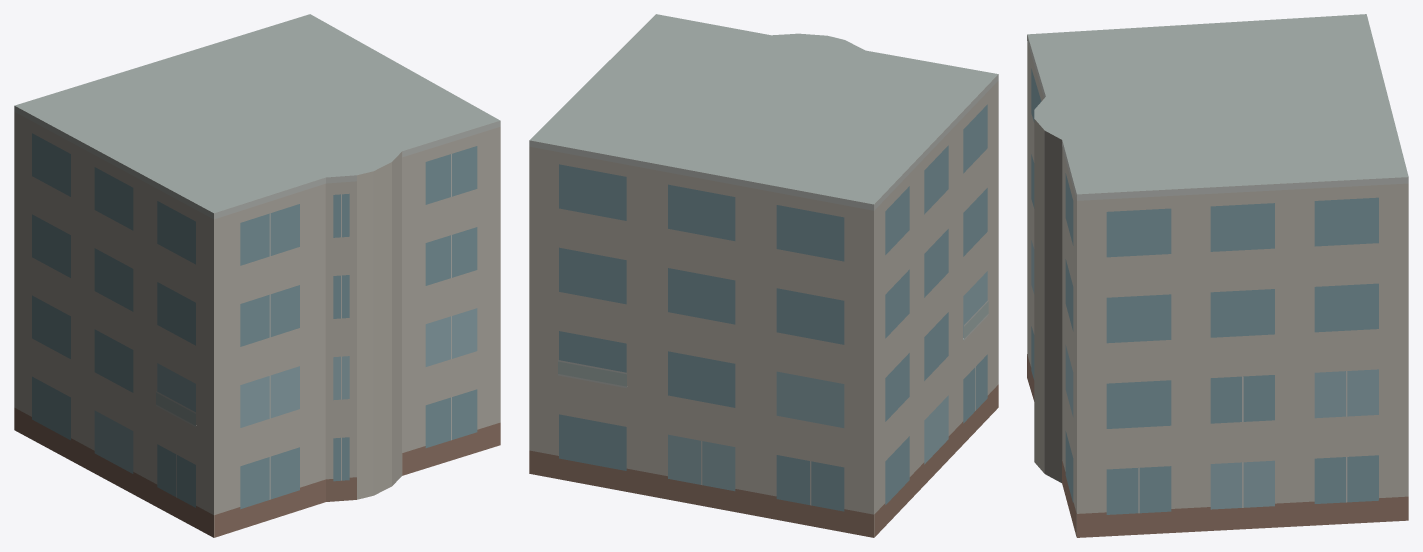
Rendered from survey-upis-32628638.glb.
3 renders of one model, left to right at view 1: azimuth 30°, elevation 25°; view 2: azimuth 150°, elevation 25°; view 3: azimuth 270°, elevation 25°, orthographic. The views are drawn at different scales.
Parts seen in each view (by area): view 1: survey-upis-32628638.tmp; view 2: survey-upis-32628638.tmp; view 3: survey-upis-32628638.tmp.
Part boxes in pixels (x1=…): survey-upis-32628638.tmp: x1=14, y1=14, x2=500, y2=537; survey-upis-32628638.tmp: x1=529, y1=14, x2=998, y2=537; survey-upis-32628638.tmp: x1=1027, y1=14, x2=1408, y2=537.
Bounding box in the file's own units: 14.65 × 13 × 13.1.
